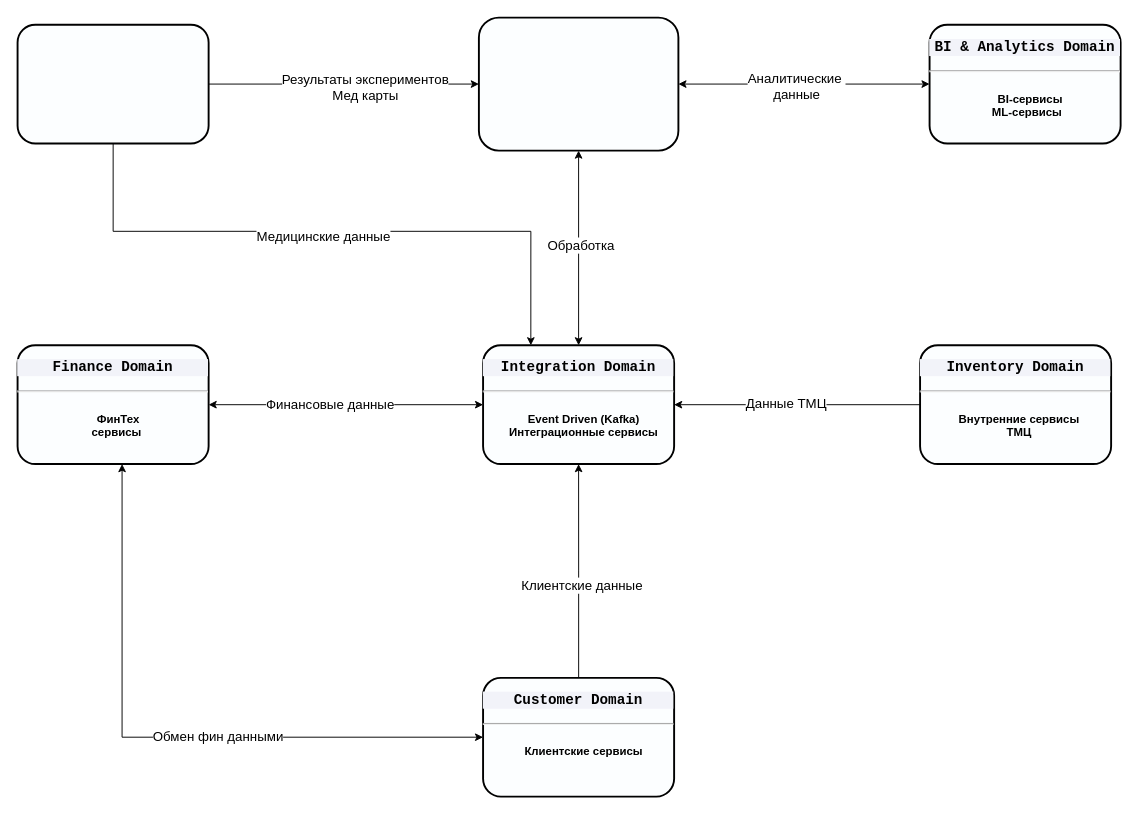
Image size: 1138x813. Some labels were removed from this diagram. The box of each missing label's shape, as (x1, y1, x2, y2) in pixels:
Data Lakehouse Domain Airflow Clickhouse Dremio Nessei DataHub: (477, 16, 679, 151)
Medical Domain Инструменты для опытов Лабораторное оборудование: (16, 23, 209, 144)
